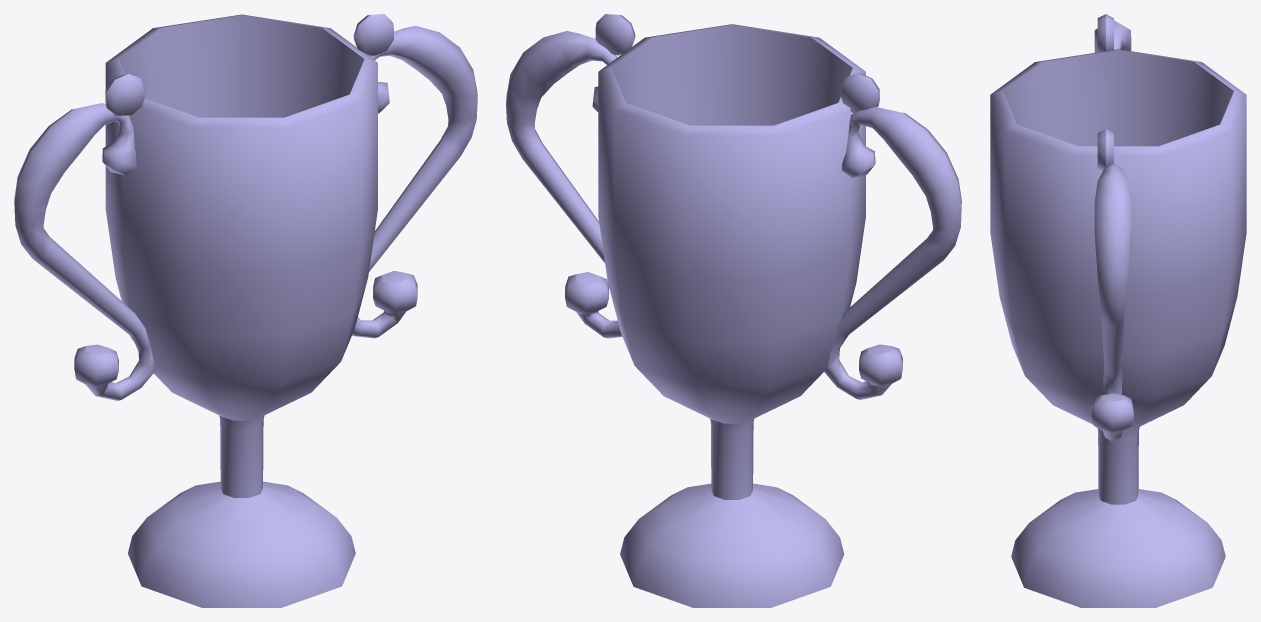
The model's file is Cup_01.fbx.
3 views of the same model, side by side, from view 1: azimuth 30°, elevation 25°; view 2: azimuth 150°, elevation 25°; view 3: azimuth 270°, elevation 25° (orthographic). The views are drawn at different scales.
Visible parts, largest first — view 1: Cup_01; view 2: Cup_01; view 3: Cup_01.
Boxes of the visible parts, <box> form: Cup_01: <box>14,14,477,607</box>; Cup_01: <box>506,14,961,607</box>; Cup_01: <box>990,14,1246,607</box>.
Size of the model in its own units: 35.38 by 38.15 by 18.01.
